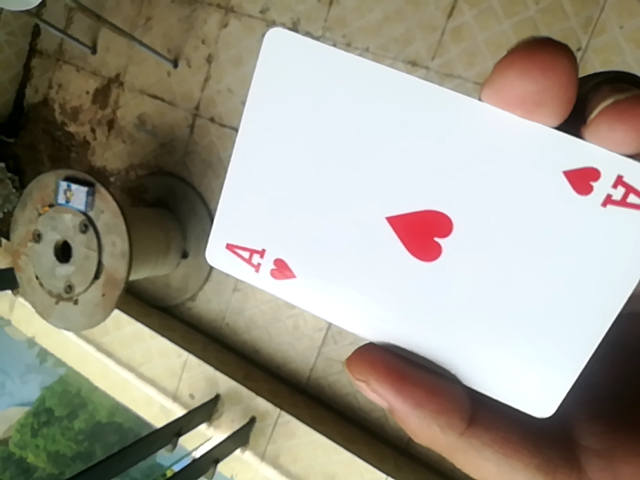hx a: (195, 27, 640, 425)
